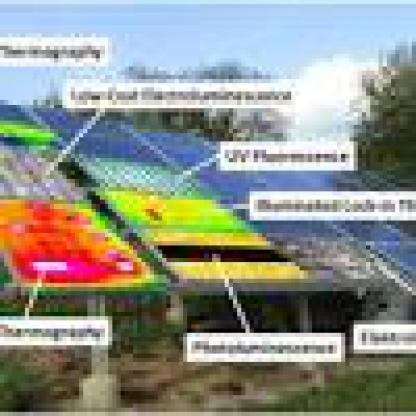Defects: (33, 258, 71, 274)
